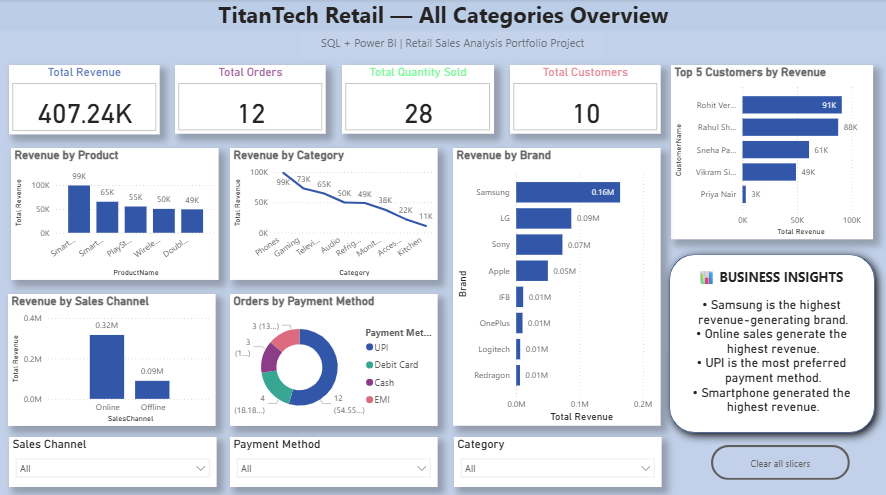

The page's visual inventory and layout, read from the dashboard file:
{"tool":"powerbi","page":{"name":"Dashboard","canvas":[1280,720],"ordinal":0},"visuals":[{"type":"cardVisual","title":"Total Revenue","fields":{"Data":["titantech_retail orderdetails.Total Revenue"]},"box":[14.4,95,217.4,100],"z":0},{"type":"cardVisual","title":"Total Orders","fields":{"Data":["titantech_retail orders.Total Orders"]},"box":[253.4,95,217.4,99.4],"z":1000},{"type":"cardVisual","title":"Total Quantity Sold","fields":{"Data":["titantech_retail orderdetails.Total Quantity Sold"]},"box":[493.9,95,218.9,99.4],"z":2000},{"type":"cardVisual","title":"Total Customers","fields":{"Data":["titantech_retail customers.Total Customers"]},"box":[735.8,95,217.4,99.4],"z":3000},{"type":"clusteredColumnChart","title":"Revenue by Product","fields":{"Category":["titantech_retail products.ProductName"],"Y":["titantech_retail orderdetails.Total Revenue"]},"box":[17.3,214.6,299,190.1],"z":4000},{"type":"clusteredColumnChart","title":"Revenue by Sales Channel","fields":{"Y":["titantech_retail orderdetails.Total Revenue"],"Category":["titantech_retail orders.SalesChannel"]},"box":[13,425.3,299,190],"z":5000},{"type":"clusteredBarChart","title":"Top 5 Customers by Revenue","fields":{"Y":["titantech_retail orderdetails.Total Revenue"],"Category":["titantech_retail customers.CustomerName"]},"box":[969,69,291,251],"z":6000},{"type":"donutChart","title":"Orders by Payment Method","fields":{"Y":["CountNonNull(titantech_retail orderdetails.OrderID)"],"Category":["titantech_retail orders.PaymentMethod"]},"box":[333,425.3,299,190],"z":7000},{"type":"clusteredBarChart","title":"Revenue by Brand","fields":{"Category":["titantech_retail products.Brand"],"Y":["titantech_retail orderdetails.Total Revenue"]},"box":[653.4,215,299,399.8],"z":8000},{"type":"lineChart","title":"Revenue by Category","fields":{"Y":["titantech_retail orderdetails.Total Revenue"],"Category":["titantech_retail products.Category"]},"box":[332.6,215,299,189.8],"z":9000},{"type":"textbox","box":[0,0,1280,46],"z":10000},{"type":"textbox","box":[436,48,434,36],"z":11000},{"type":"slicer","title":"Sales Channel","fields":{"Values":["titantech_retail orders.SalesChannel"]},"box":[15.1,630.7,299,72],"z":12000},{"type":"slicer","title":"Payment Method","fields":{"Values":["titantech_retail orders.PaymentMethod"]},"box":[333.1,630.7,299,72],"z":13000},{"type":"slicer","title":"Category","fields":{"Values":["titantech_retail products.Category"]},"box":[655.1,630.7,299,72],"z":14000},{"type":"shape","box":[947.5,349.9,331.2,292.3],"z":15000},{"type":"textbox","box":[987.8,383,252,37.4],"z":16000},{"type":"card","fields":{"Values":["titantech_retail customers.Business Insights"]},"box":[985,414.7,259.2,191.5],"z":17000},{"type":"actionButton","box":[1024.7,641.7,199.9,50.4],"z":18000}]}

Visuals, with their boxes in screenshot pixels (x1, y1, x2, y2), scaled from the page's 1280x720 canvas onto the 886x495 screenshot:
"Total Revenue" cardVisual: box(10, 65, 160, 134)
"Total Orders" cardVisual: box(175, 65, 326, 134)
"Total Quantity Sold" cardVisual: box(342, 65, 493, 134)
"Total Customers" cardVisual: box(509, 65, 660, 134)
"Revenue by Product" clusteredColumnChart: box(12, 148, 219, 278)
"Revenue by Sales Channel" clusteredColumnChart: box(9, 292, 216, 423)
"Top 5 Customers by Revenue" clusteredBarChart: box(671, 47, 872, 220)
"Orders by Payment Method" donutChart: box(230, 292, 437, 423)
"Revenue by Brand" clusteredBarChart: box(452, 148, 659, 423)
"Revenue by Category" lineChart: box(230, 148, 437, 278)
textbox: box(0, 0, 885, 32)
textbox: box(302, 33, 602, 58)
"Sales Channel" slicer: box(10, 434, 217, 483)
"Payment Method" slicer: box(231, 434, 438, 483)
"Category" slicer: box(453, 434, 660, 483)
shape: box(656, 241, 885, 442)
textbox: box(684, 263, 858, 289)
card - titantech_retail customers.Business Insights: box(682, 285, 861, 417)
actionButton: box(709, 441, 848, 476)
